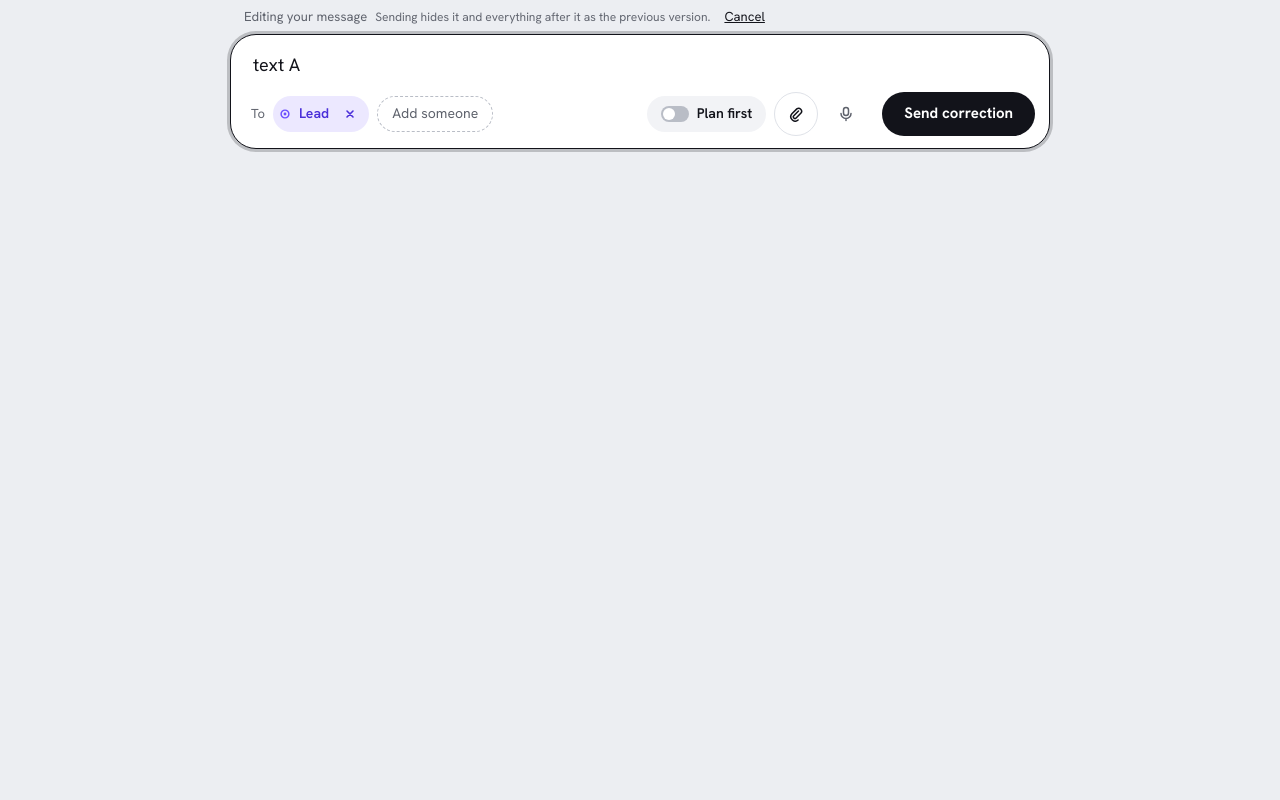
the dialog explains when an agent can’t be rewound or work is still running, and nothing is sent
Click the button "Send correction" at (959, 114), box [882,92,1035,136]
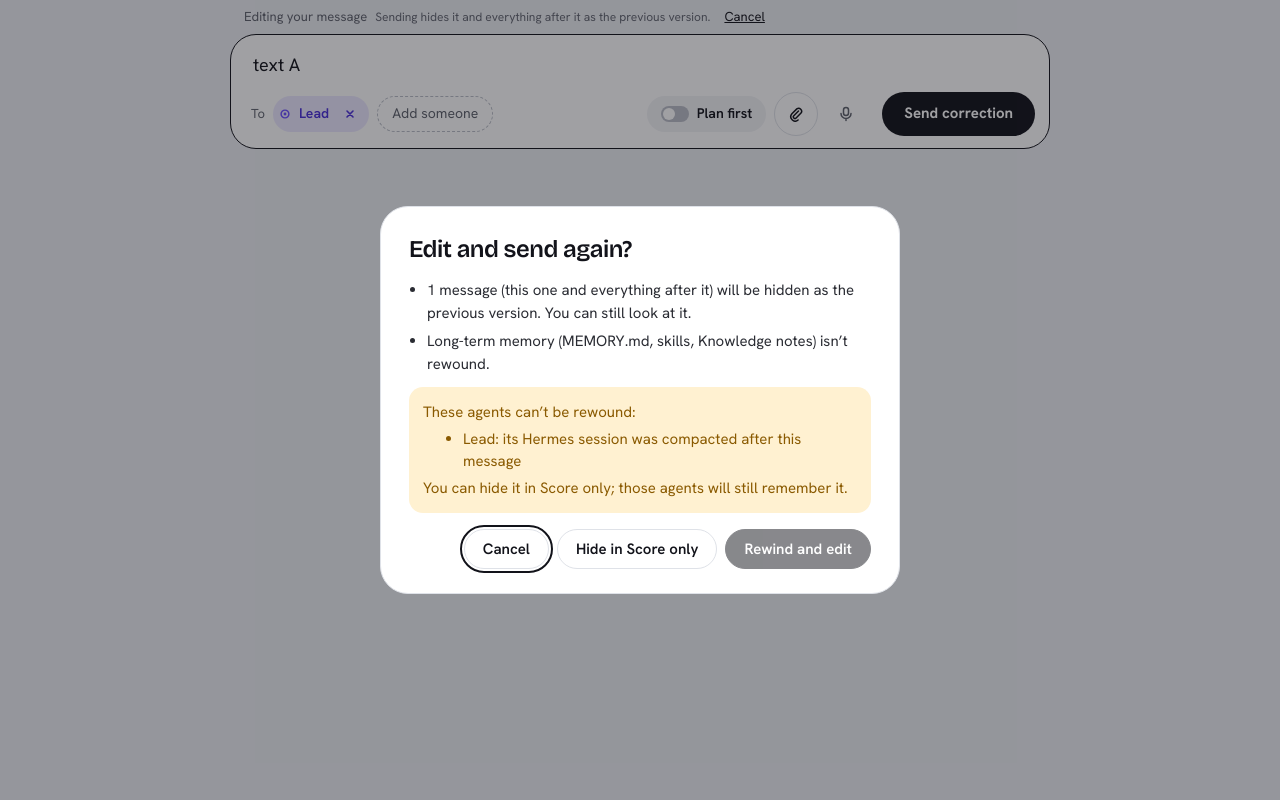
Expected: the button "Hide in Score only" is shown, [557,529,717,569]
